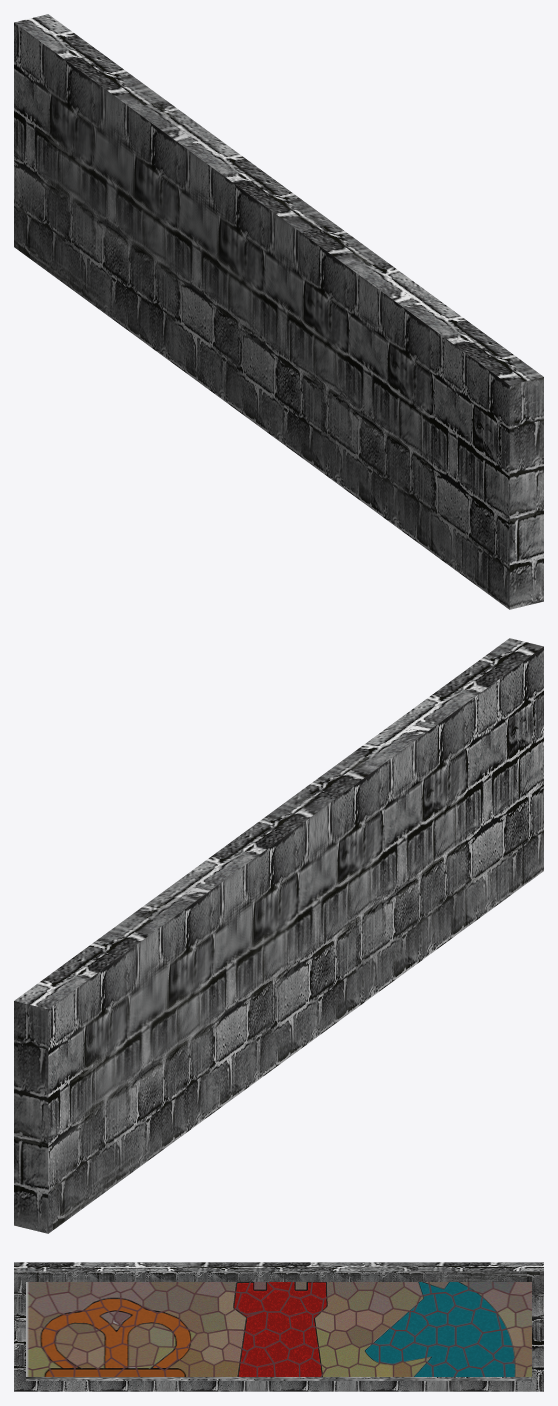
Rendered from SM_frame_chess.fbx.
3 renders of one model, top to bottom at view 1: azimuth 30°, elevation 25°; view 2: azimuth 150°, elevation 25°; view 3: azimuth 270°, elevation 25°, orthographic. The views are drawn at different scales.
Visible parts, largest first — view 1: SM_frame_chess; view 2: SM_frame_chess; view 3: SM_frame_chess.
Part boxes in pixels (x1=…): SM_frame_chess: x1=14, y1=14, x2=543, y2=609; SM_frame_chess: x1=14, y1=638, x2=543, y2=1233; SM_frame_chess: x1=14, y1=1262, x2=543, y2=1391.
Size of the model in its own units: 20 by 125 by 500.
